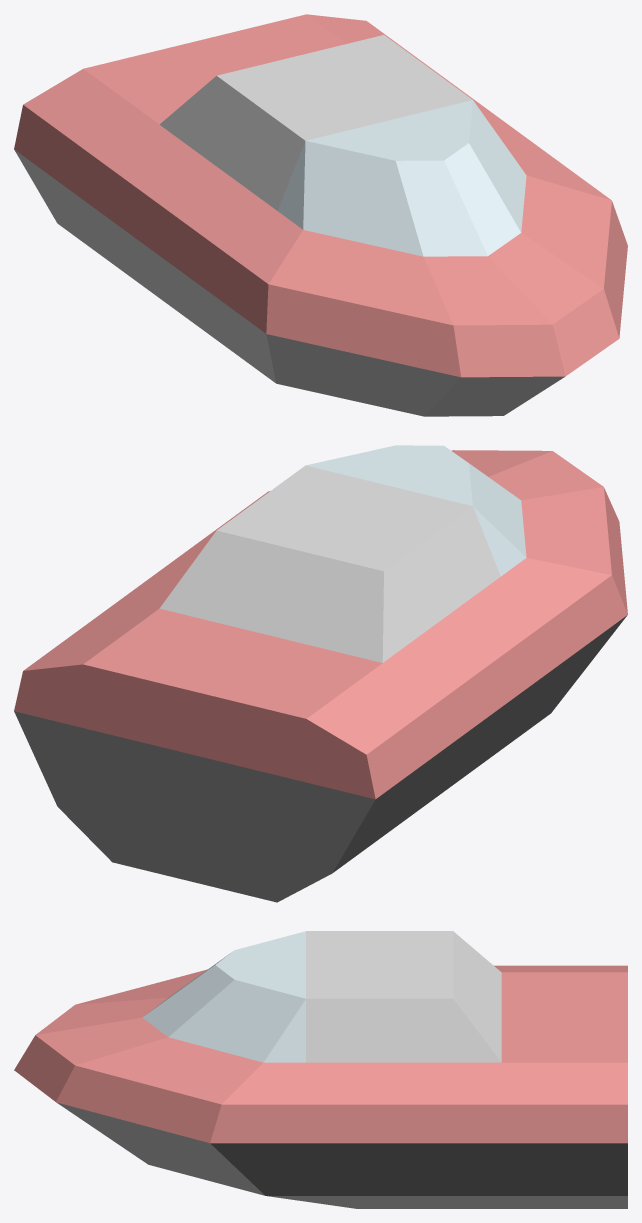
Rendered from boat_016.glb.
3 renders of one model, top to bottom at view 1: azimuth 30°, elevation 25°; view 2: azimuth 150°, elevation 25°; view 3: azimuth 270°, elevation 25°, orthographic. The views are drawn at different scales.
Visible parts, largest first — view 1: boat_016; view 2: boat_016; view 3: boat_016.
Boxes of the visible parts, x1=… form: boat_016: x1=14, y1=14, x2=627, y2=416; boat_016: x1=14, y1=445, x2=627, y2=902; boat_016: x1=14, y1=931, x2=627, y2=1208.
Size of the model in its own units: 1.78 by 1.2 by 3.17.
